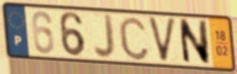6: (58, 10, 87, 59), (30, 10, 55, 55)
C: (117, 15, 151, 63)
J: (92, 12, 117, 61)
N: (177, 17, 212, 66)
V: (146, 15, 178, 64)
